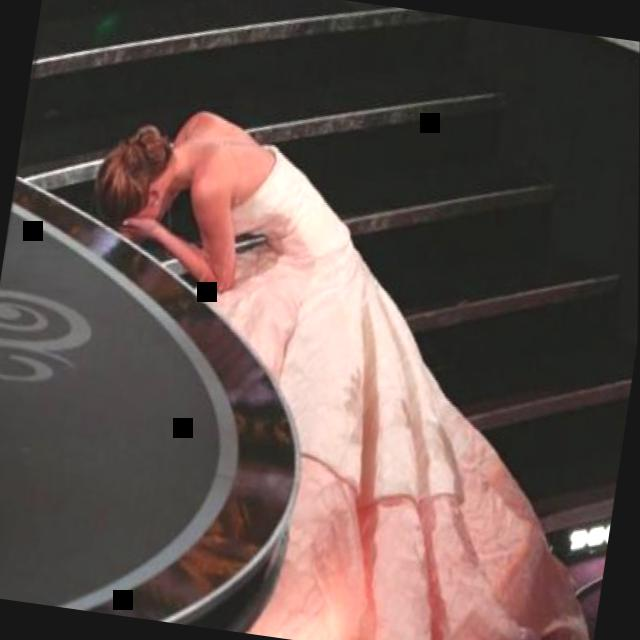Fall-Detected: (7, 68, 640, 640)
